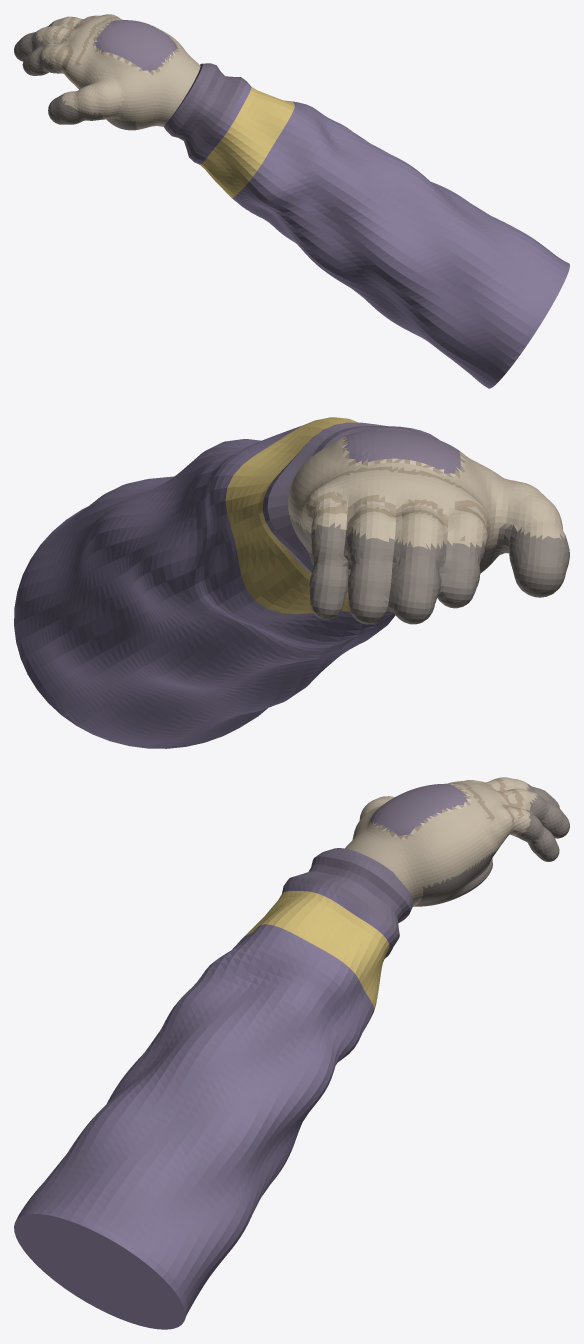
File: emptyR.glb
3 views of the same model, one above another, from view 1: azimuth 30°, elevation 25°; view 2: azimuth 150°, elevation 25°; view 3: azimuth 270°, elevation 25° (orthographic). The views are drawn at different scales.
Visible parts, largest first — view 1: vm_emptyR_sleeve_uniform, vm_emptyR_glove_canvas, vm_emptyR_sleeve_stripe, vm_emptyR_sleeve_cuff, vm_emptyR_glove_patch, vm_emptyR_glove_grip, vm_emptyR_glove_seam; view 2: vm_emptyR_sleeve_uniform, vm_emptyR_glove_grip, vm_emptyR_glove_canvas, vm_emptyR_sleeve_stripe, vm_emptyR_sleeve_cuff, vm_emptyR_glove_patch, vm_emptyR_glove_seam; view 3: vm_emptyR_sleeve_uniform, vm_emptyR_glove_canvas, vm_emptyR_sleeve_stripe, vm_emptyR_sleeve_cuff, vm_emptyR_glove_grip, vm_emptyR_glove_patch, vm_emptyR_glove_seam.
Boxes of the visible parts, <box> form: vm_emptyR_sleeve_uniform: <box>194,82,569,388</box>; vm_emptyR_glove_canvas: <box>35,14,200,129</box>; vm_emptyR_sleeve_stripe: <box>200,87,294,197</box>; vm_emptyR_sleeve_cuff: <box>164,63,246,161</box>; vm_emptyR_glove_patch: <box>94,20,177,72</box>; vm_emptyR_glove_grip: <box>14,21,139,130</box>; vm_emptyR_glove_seam: <box>43,14,178,75</box>; vm_emptyR_sleeve_uniform: <box>14,422,395,748</box>; vm_emptyR_glove_grip: <box>289,514,569,624</box>; vm_emptyR_glove_canvas: <box>288,438,564,549</box>; vm_emptyR_sleeve_stripe: <box>225,417,357,614</box>; vm_emptyR_sleeve_cuff: <box>262,422,438,572</box>; vm_emptyR_glove_patch: <box>343,429,460,473</box>; vm_emptyR_glove_seam: <box>310,436,489,541</box>; vm_emptyR_sleeve_uniform: <box>14,883,395,1329</box>; vm_emptyR_glove_canvas: <box>345,777,538,906</box>; vm_emptyR_sleeve_stripe: <box>245,891,389,1010</box>; vm_emptyR_sleeve_cuff: <box>284,848,412,950</box>; vm_emptyR_glove_grip: <box>413,784,569,906</box>; vm_emptyR_glove_patch: <box>370,783,468,835</box>; vm_emptyR_glove_seam: <box>367,778,524,839</box>.
Bounding box in the file's own units: 0.5775 × 0.4345 × 0.5643.
